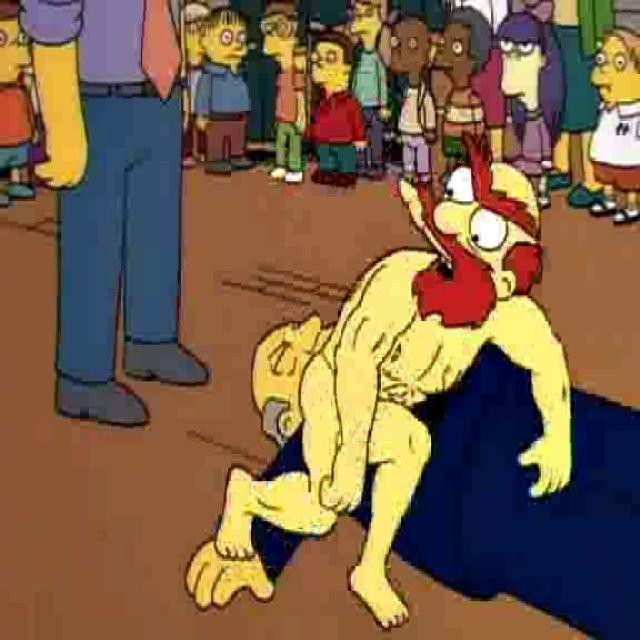Groundskeeper Willie: (409, 129, 547, 333)
